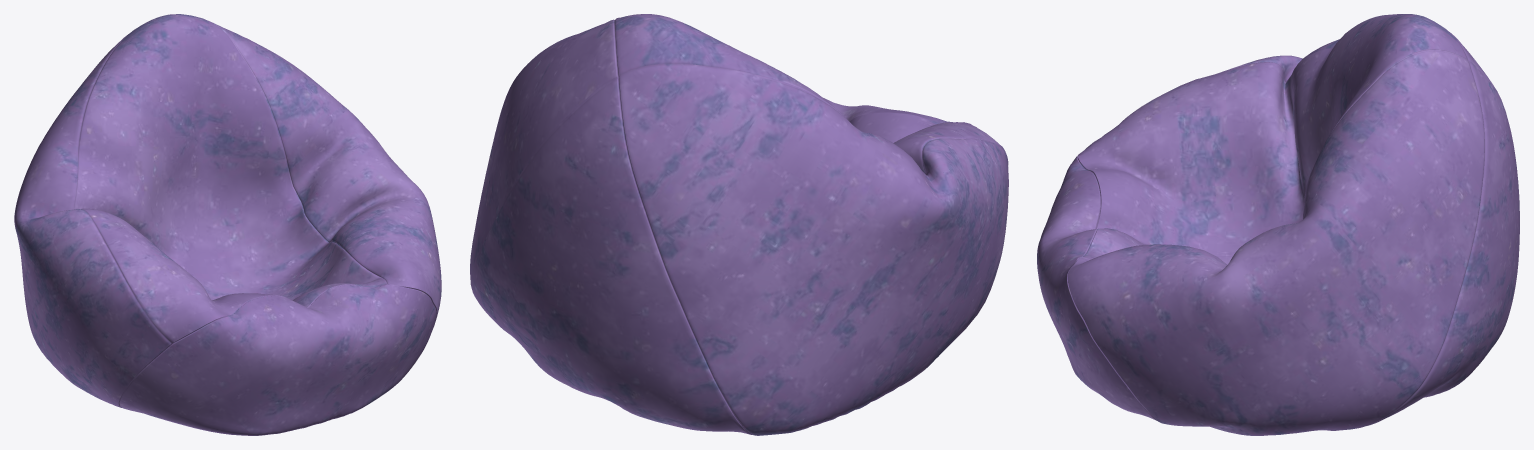
Rendered from puff.glb.
3 views of the same model, side by side, from view 1: azimuth 30°, elevation 25°; view 2: azimuth 150°, elevation 25°; view 3: azimuth 270°, elevation 25° (orthographic). The views are drawn at different scales.
Visible parts, largest first — view 1: bean_bag_chair_mesh_n3d; view 2: bean_bag_chair_mesh_n3d; view 3: bean_bag_chair_mesh_n3d.
Boxes of the visible parts, box(x1,y1,x2,y2) form: bean_bag_chair_mesh_n3d: box(14, 14, 441, 435); bean_bag_chair_mesh_n3d: box(470, 14, 1008, 435); bean_bag_chair_mesh_n3d: box(1037, 14, 1519, 435).
Bounding box in the file's own units: 1.29 × 1 × 1.3.
1 material, 1 textured.
